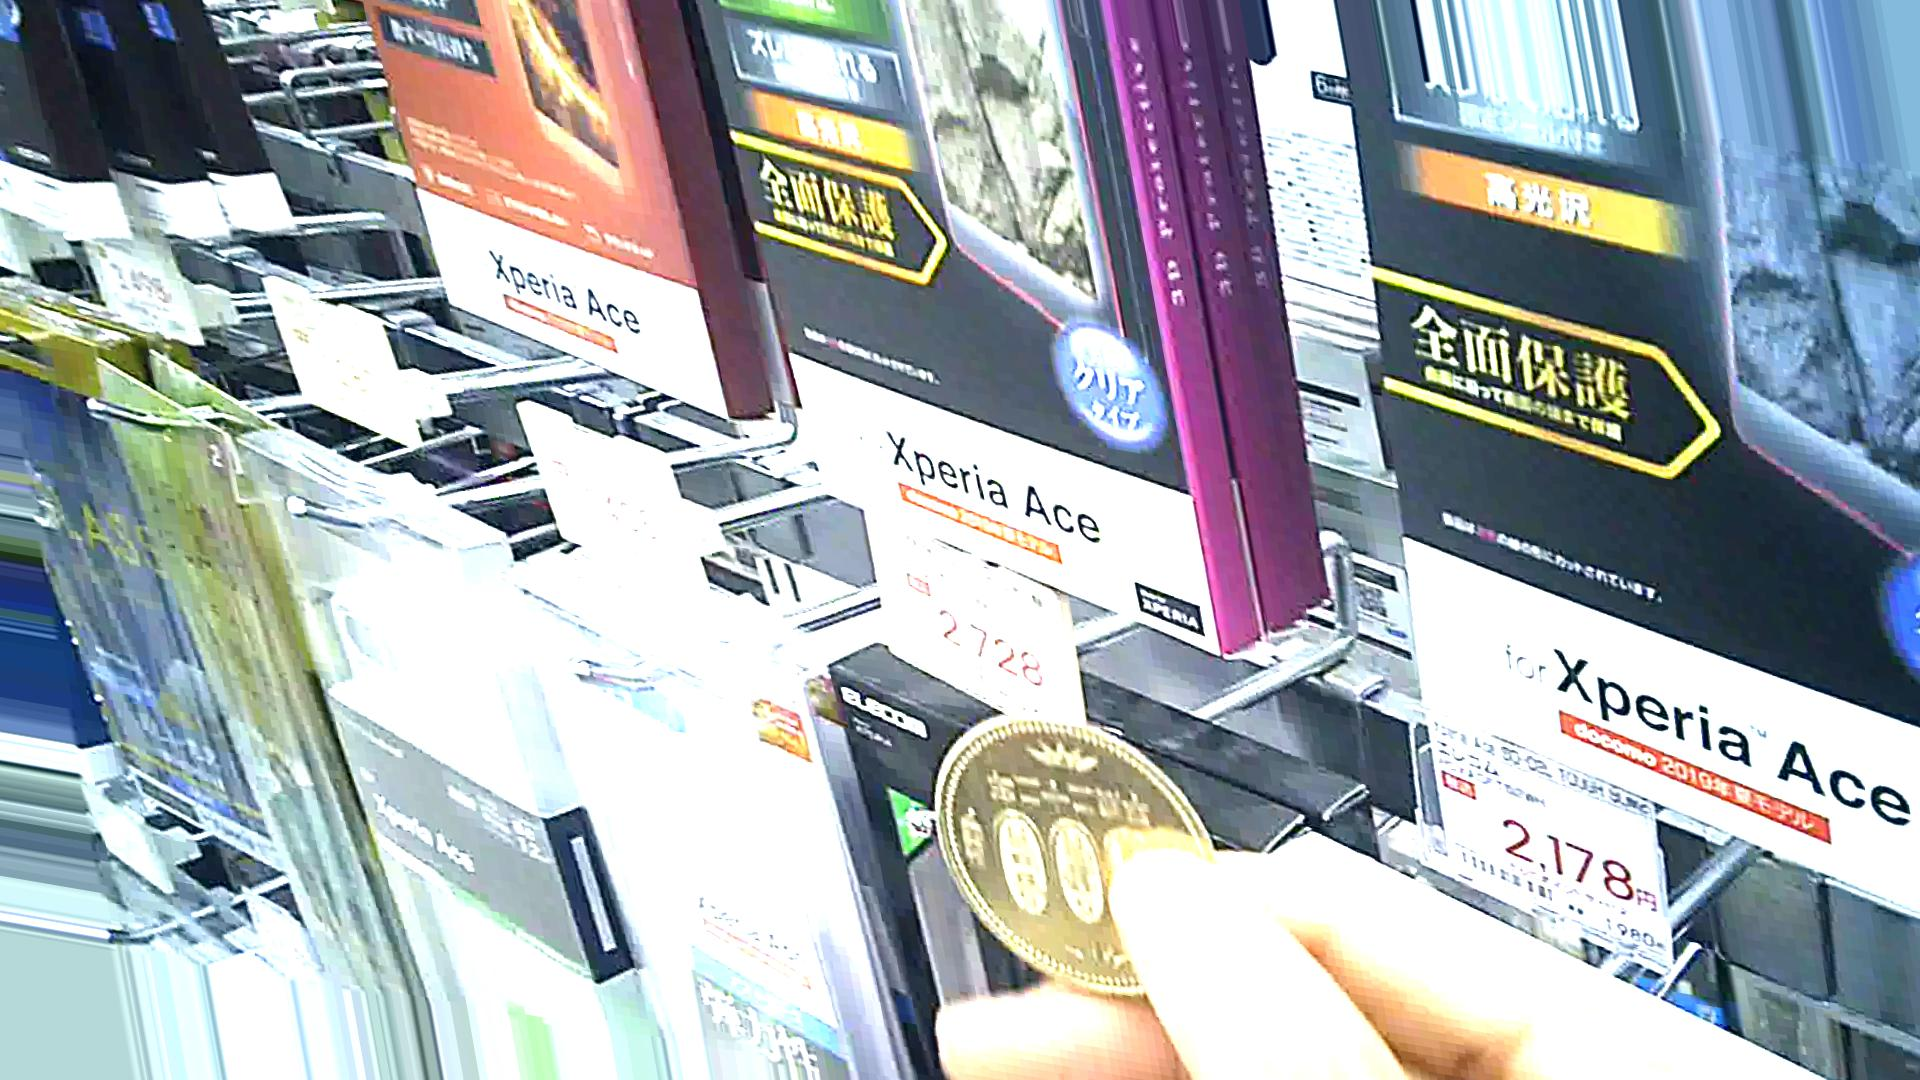500 Yen: (924, 711, 1185, 984)
